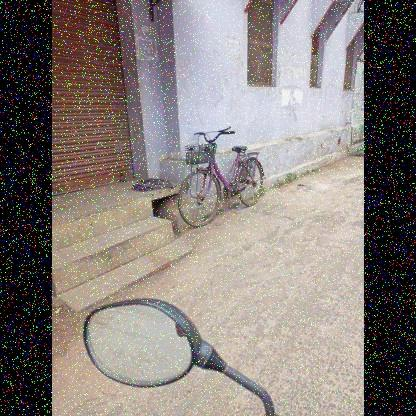Bicycle: (171, 119, 275, 232)
